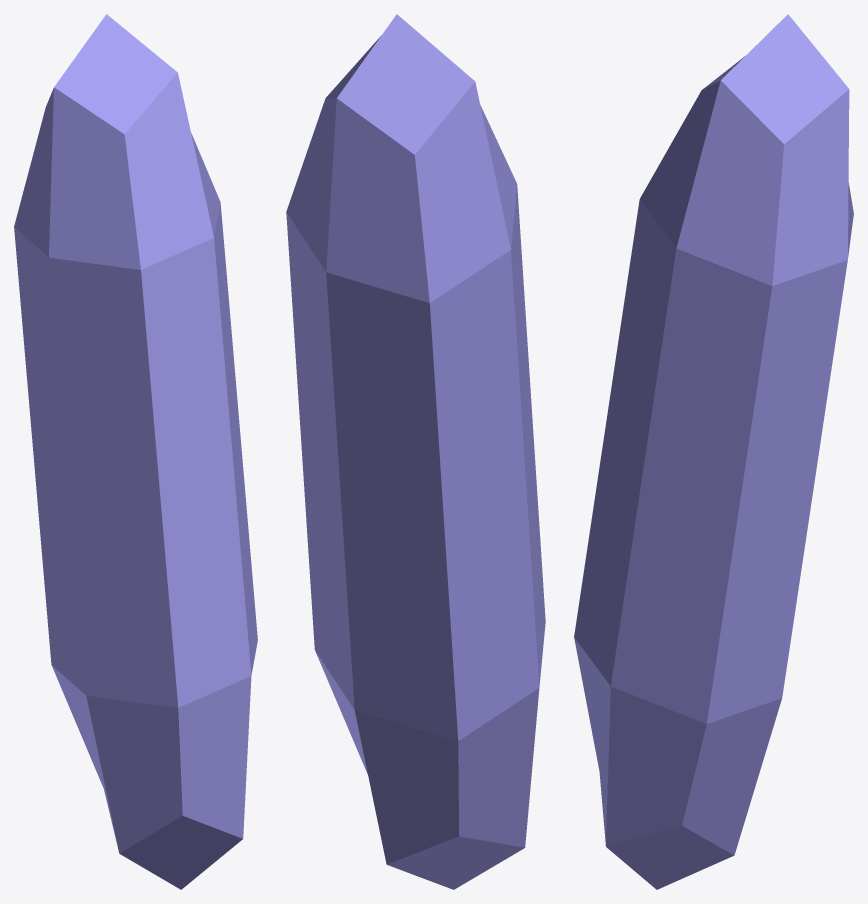
The model's file is GripCrystal.fbx.
3 renders of one model, left to right at view 1: azimuth 30°, elevation 25°; view 2: azimuth 150°, elevation 25°; view 3: azimuth 270°, elevation 25°, orthographic. The views are drawn at different scales.
Parts seen in each view (by area): view 1: GripCrystal; view 2: GripCrystal; view 3: GripCrystal.
Boxes of the visible parts, <box> form: GripCrystal: <box>14,14,257,889</box>; GripCrystal: <box>286,14,545,889</box>; GripCrystal: <box>574,14,853,889</box>.
Size of the model in its own units: 4.08 by 3.38 by 13.98.
